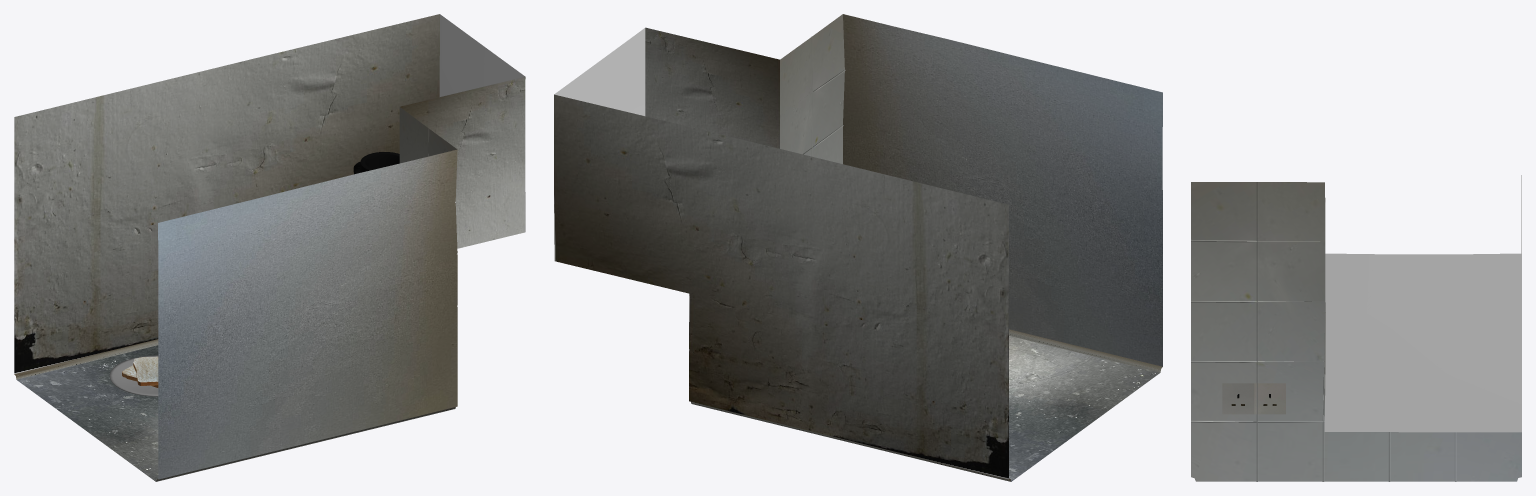
3 renders of one model, left to right at view 1: azimuth 30°, elevation 25°; view 2: azimuth 150°, elevation 25°; view 3: azimuth 270°, elevation 25°, orthographic. The views are drawn at different scales.
Visible parts, largest first — view 1: room, window, Cylinder001, bread002, cup; view 2: room, window; view 3: room, window, fuse.
Part boxes in pixels (bbox=[...]): room: bbox=[14, 14, 525, 481]; window: bbox=[439, 14, 524, 96]; Cylinder001: bbox=[109, 355, 158, 396]; bread002: bbox=[133, 356, 158, 385]; cup: bbox=[353, 152, 399, 174]; room: bbox=[554, 14, 1162, 481]; window: bbox=[554, 28, 645, 115]; room: bbox=[1191, 175, 1521, 481]; window: bbox=[1324, 253, 1521, 432]; fuse: bbox=[1222, 383, 1285, 414].
Bounding box in the file's own units: 256 × 151 × 150.
